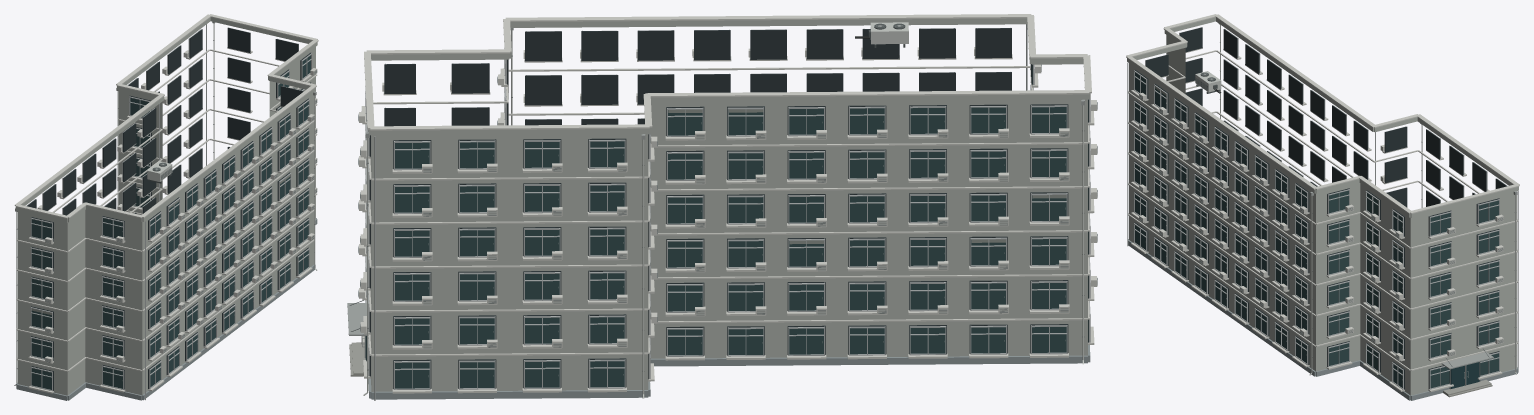
File: osm_way_225250619.glb
The picture shows the model from 3 angles, left to right: view 1: azimuth 30°, elevation 25°; view 2: azimuth 150°, elevation 25°; view 3: azimuth 270°, elevation 25°; orthographic projection. The views are drawn at different scales.
Parts seen in each view (by area): view 1: Windows and facade details | 38, Architecture | 38, Roof services | 38, EXTERIOR::osm_way_225250619::rainwater and roof service deta; view 2: Architecture | 38, Windows and facade details | 38, Roof services | 38, EXTERIOR::osm_way_225250619::rainwater and roof service deta, EXTERIOR::osm_way_225250619::inferred entry doors canopy and, EXTERIOR::osm_way_225250619::native pane seals and hardware; view 3: Windows and facade details | 38, Architecture | 38, Roof services | 38, EXTERIOR::osm_way_225250619::inferred entry doors canopy and, EXTERIOR::osm_way_225250619::rainwater and roof service deta.
Boxes of the visible parts, left/top/right/bottom form: Windows and facade details | 38: left=26, top=24, right=317, bottom=400; Architecture | 38: left=15, top=17, right=317, bottom=400; Roof services | 38: left=14, top=14, right=318, bottom=218; EXTERIOR::osm_way_225250619::rainwater and roof service deta: left=14, top=21, right=317, bottom=385; Architecture | 38: left=368, top=18, right=1090, bottom=399; Windows and facade details | 38: left=358, top=24, right=1097, bottom=400; Roof services | 38: left=364, top=14, right=1091, bottom=130; EXTERIOR::osm_way_225250619::rainwater and roof service deta: left=363, top=22, right=1084, bottom=398; EXTERIOR::osm_way_225250619::inferred entry doors canopy and: left=347, top=300, right=368, bottom=376; EXTERIOR::osm_way_225250619::native pane seals and hardware: left=428, top=109, right=1066, bottom=376; Windows and facade details | 38: left=1127, top=27, right=1518, bottom=392; Architecture | 38: left=1127, top=17, right=1518, bottom=400; Roof services | 38: left=1126, top=14, right=1519, bottom=213; EXTERIOR::osm_way_225250619::inferred entry doors canopy and: left=1441, top=348, right=1493, bottom=397; EXTERIOR::osm_way_225250619::rainwater and roof service deta: left=1195, top=24, right=1517, bottom=375.
Size of the model in its own units: 44.74 by 20.58 by 37.38.
